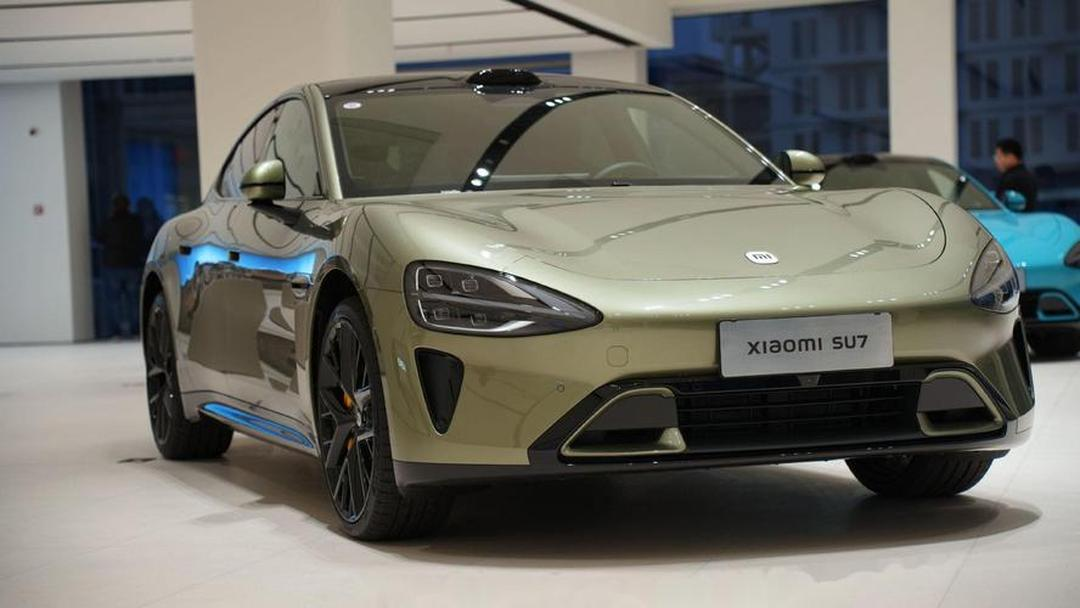su7: (132, 56, 1044, 530)
